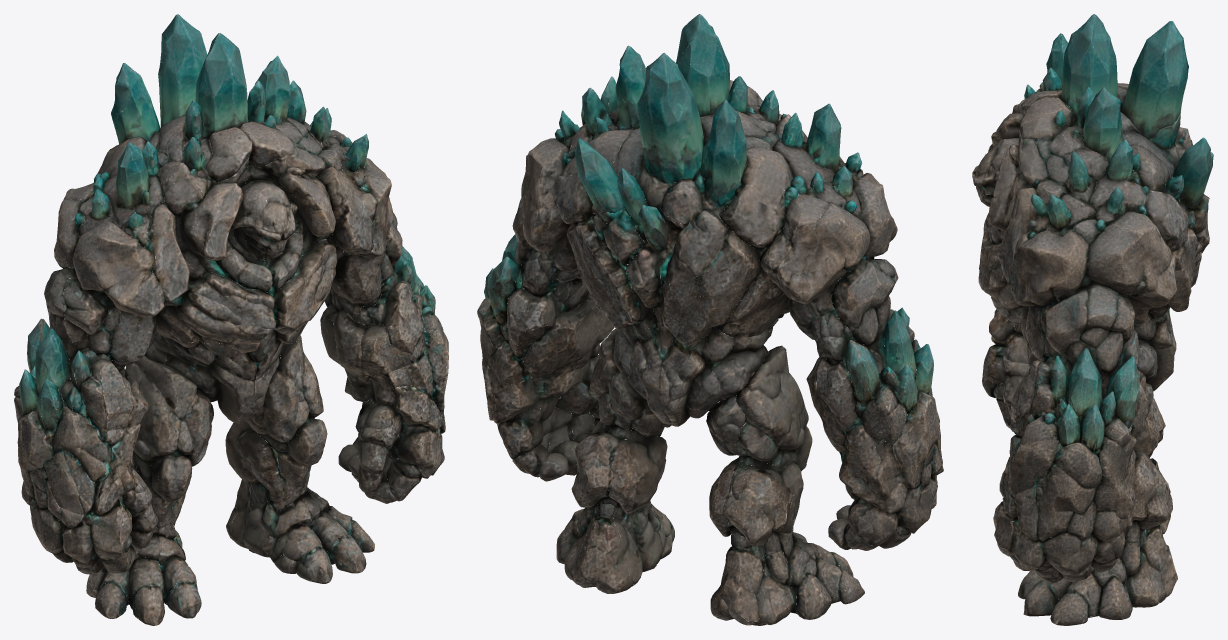
Rendered from vault-guardian-boss-tripo.glb.
3 views of the same model, side by side, from view 1: azimuth 30°, elevation 25°; view 2: azimuth 150°, elevation 25°; view 3: azimuth 270°, elevation 25° (orthographic). The views are drawn at different scales.
Parts seen in each view (by area): view 1: tripo_node_eb6d496f-3b97-44e8-8792-c7e936028097; view 2: tripo_node_eb6d496f-3b97-44e8-8792-c7e936028097; view 3: tripo_node_eb6d496f-3b97-44e8-8792-c7e936028097.
Part boxes in pixels (left/top/right/bottom): tripo_node_eb6d496f-3b97-44e8-8792-c7e936028097: left=14, top=14, right=448, bottom=625; tripo_node_eb6d496f-3b97-44e8-8792-c7e936028097: left=477, top=14, right=943, bottom=625; tripo_node_eb6d496f-3b97-44e8-8792-c7e936028097: left=972, top=14, right=1213, bottom=625.
Size of the model in its own units: 1.47 by 1.8 by 0.7185.
Materials: 1 (1 with a texture image).
